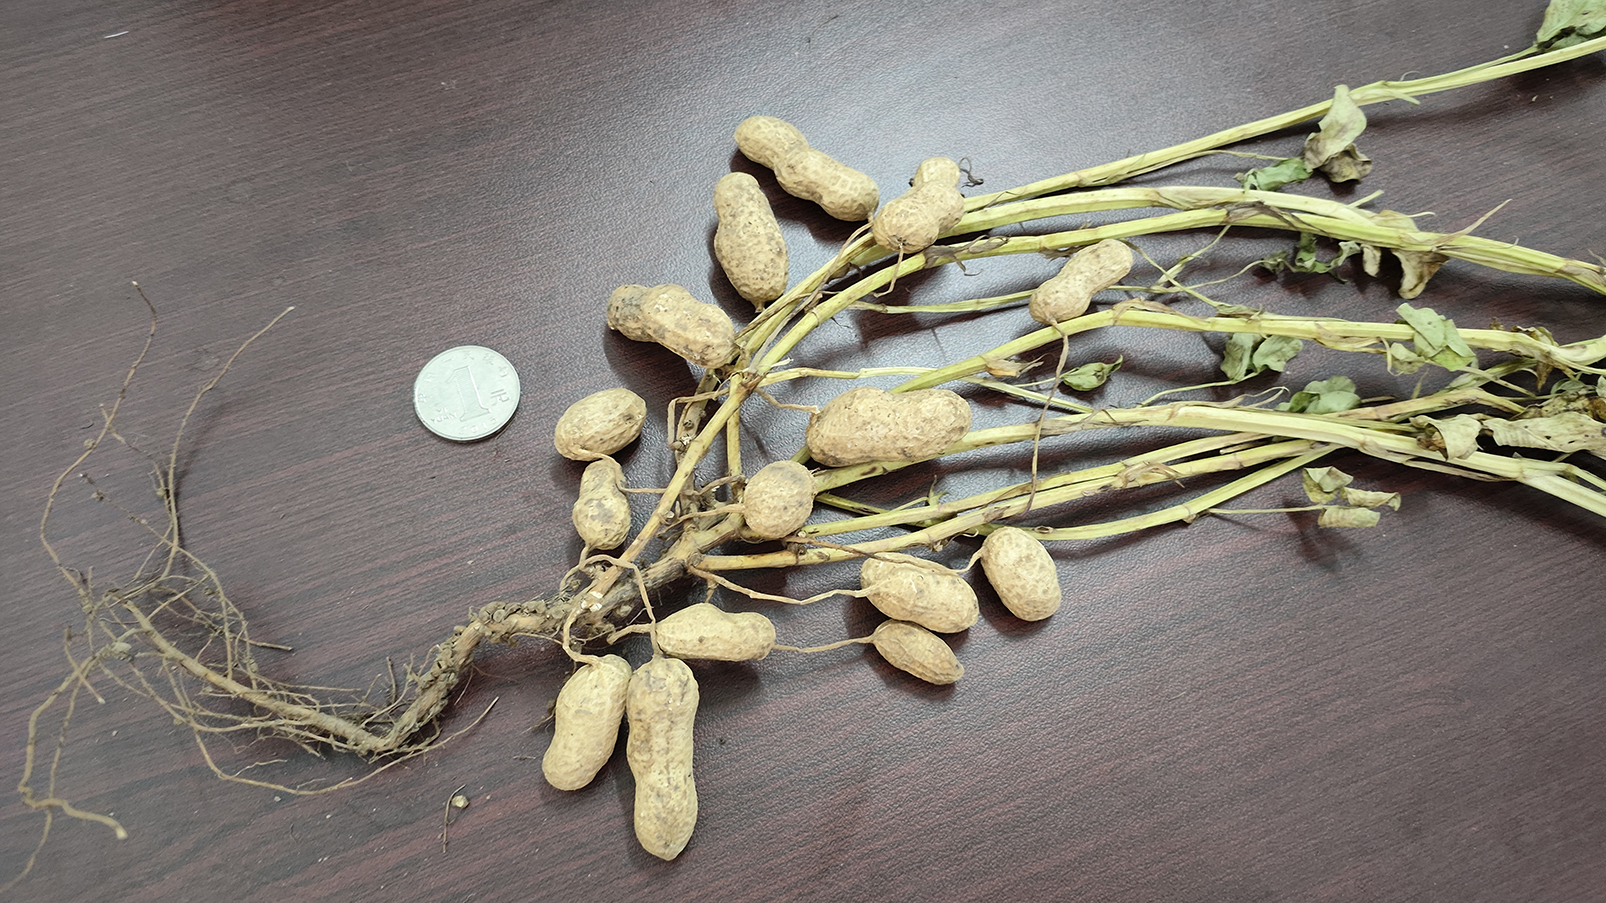h: (624, 658, 702, 861), (734, 112, 877, 221), (810, 385, 974, 463), (540, 651, 628, 789), (606, 280, 735, 368), (711, 171, 788, 304), (860, 555, 977, 632), (1029, 237, 1135, 322), (874, 155, 964, 252), (652, 604, 777, 664), (979, 529, 1059, 622), (552, 385, 646, 459), (866, 621, 963, 685), (739, 459, 816, 538), (569, 459, 630, 547)
